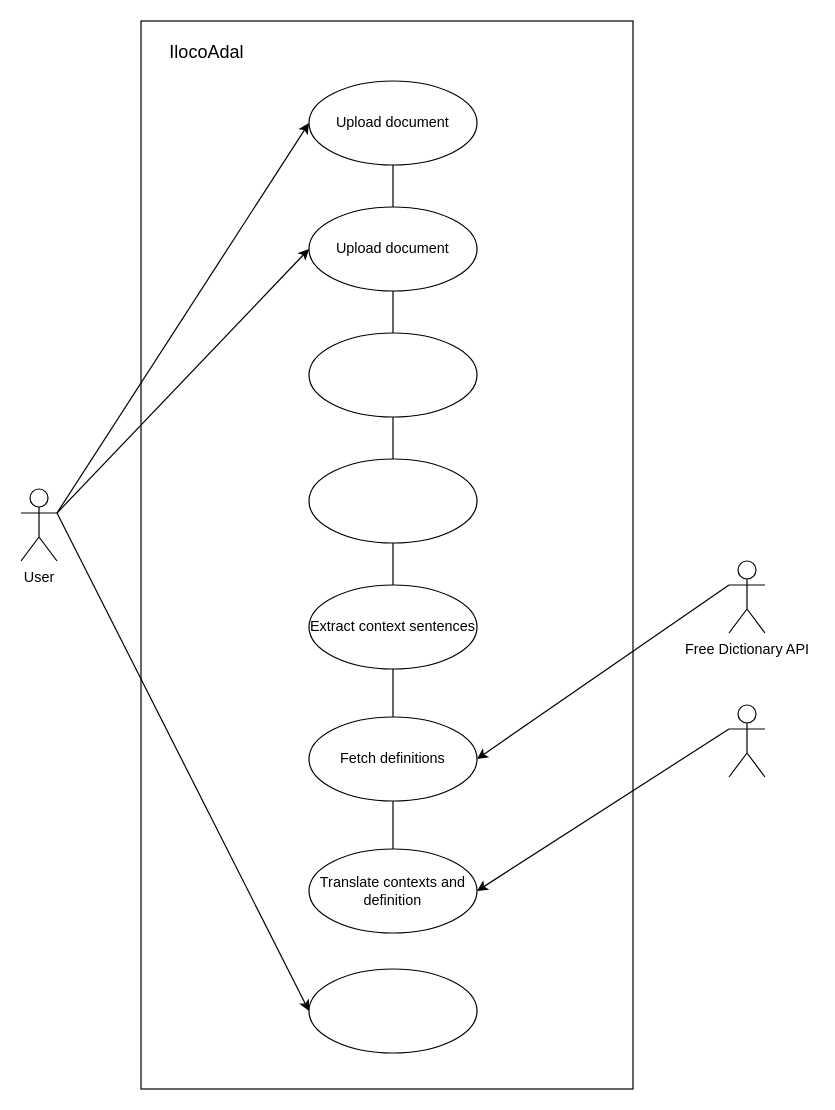
Some shapes in this 835 by 1110 pixel diagram are drawn without their labels. The centre of each missing label's shape, as x and y in pixels:
Download document: (x=392, y=1010)
Extract and preprocess raw text: (x=392, y=374)
Google Translate API: (x=746, y=740)
Rank terms (TF-IDF): (x=392, y=500)
